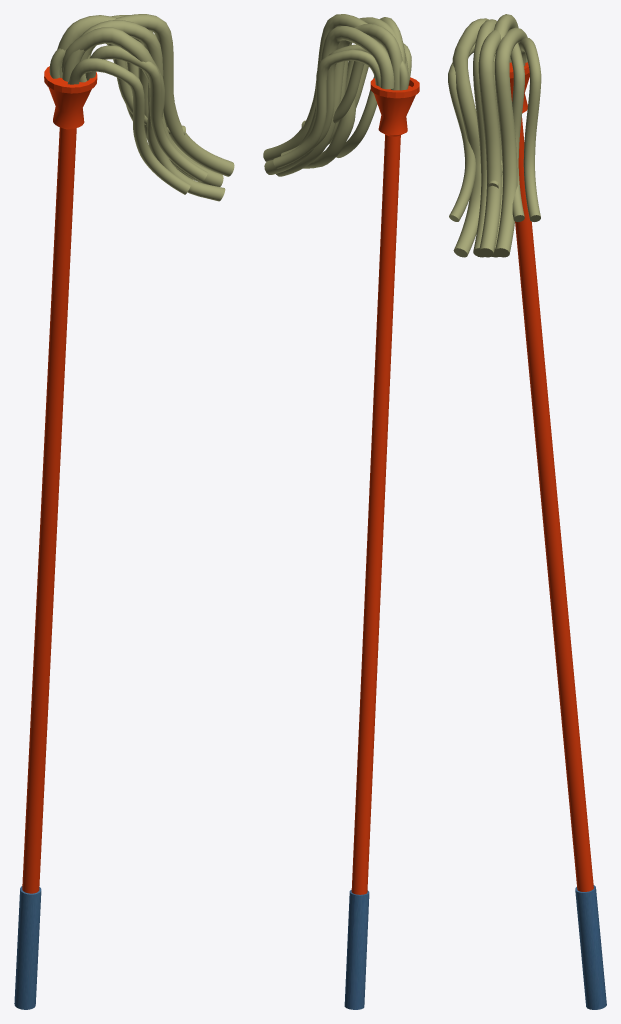
Rendered from mop.FBX.
3 views of the same model, side by side, from view 1: azimuth 30°, elevation 25°; view 2: azimuth 150°, elevation 25°; view 3: azimuth 270°, elevation 25° (orthographic). The views are drawn at different scales.
Visible parts, largest first — view 1: Cylinder001, Line009; view 2: Cylinder001, Line009; view 3: Line009, Cylinder001.
Part boxes in pixels (<box>): Cylinder001: <box>14,66,97,1009</box>; Line009: <box>49,14,234,201</box>; Cylinder001: <box>344,77,419,1009</box>; Line009: <box>263,14,411,176</box>; Line009: <box>448,14,541,257</box>; Cylinder001: <box>509,62,606,1009</box>.
Size of the model in its own units: 27.04 by 151 by 21.71.
